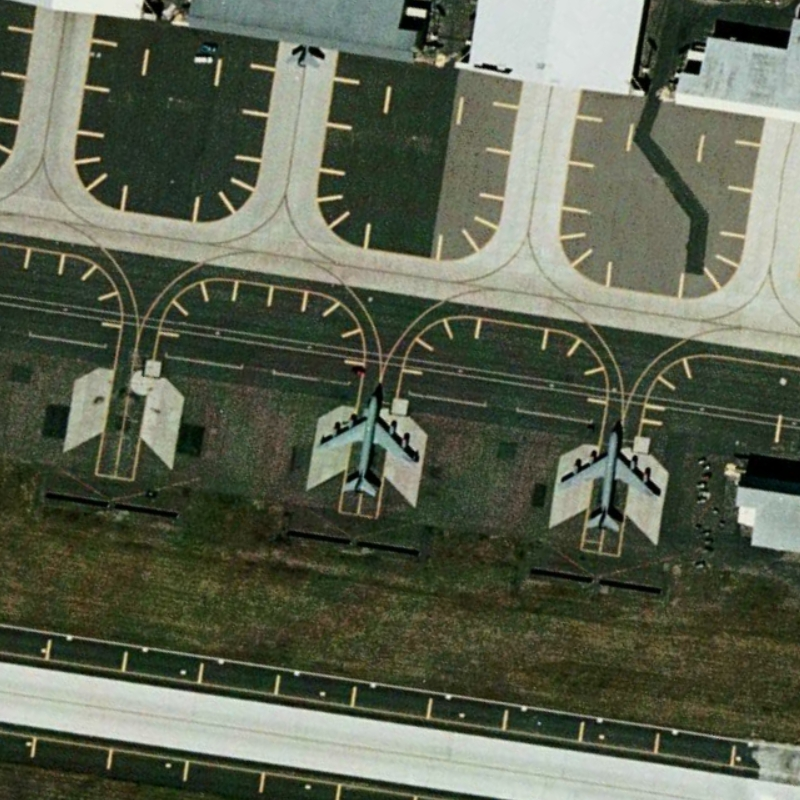A14: (557, 414, 667, 544), (314, 383, 431, 500)
